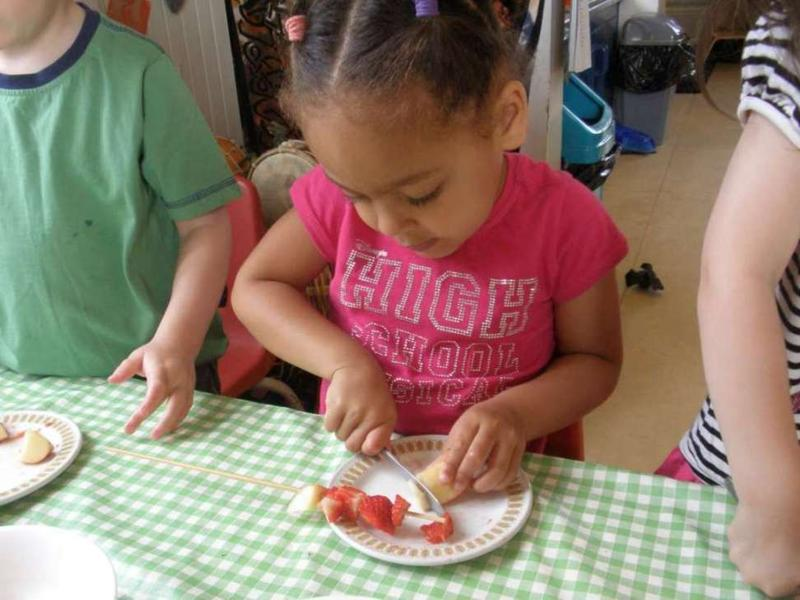person: (230, 3, 634, 498)
